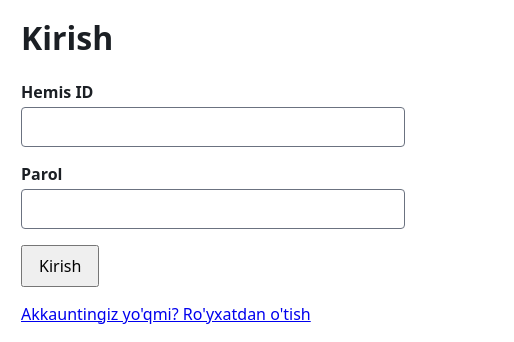
Test: /login (AUTH-02) › vaqtinchalik parol bilan kirgan foydalanuvchi /change-password ga yo'naltiriladi
In the field labelled "Hemis ID": (213, 127) top-left (21, 107), bottom-right (405, 147), type "1"
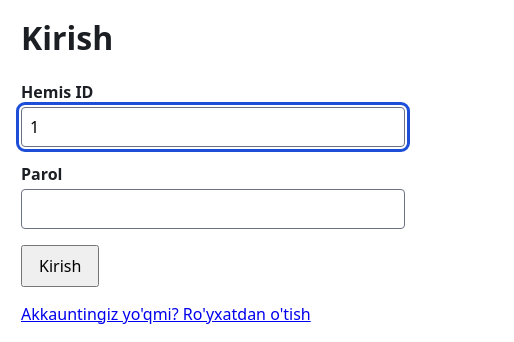
In the password field labelled "Parol": (213, 209) top-left (21, 189), bottom-right (405, 229), type "x"
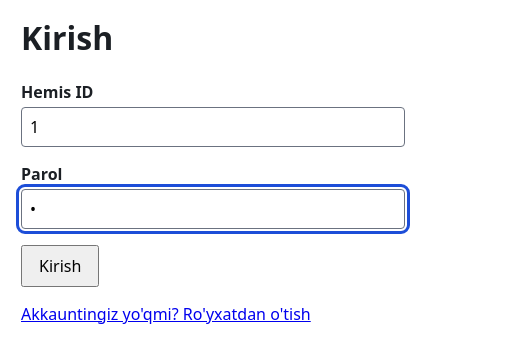
Click the button "Kirish": (60, 266) top-left (21, 245), bottom-right (99, 287)
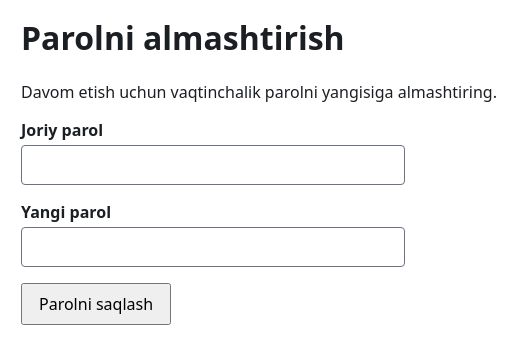
Now the heading "Parolni almashtirish" is shown, box top-left (21, 16), bottom-right (345, 59)
Now the text "Davom etish uchun vaqtinchalik parolni yangisiga almashtiring." is shown, box top-left (21, 81), bottom-right (497, 103)
